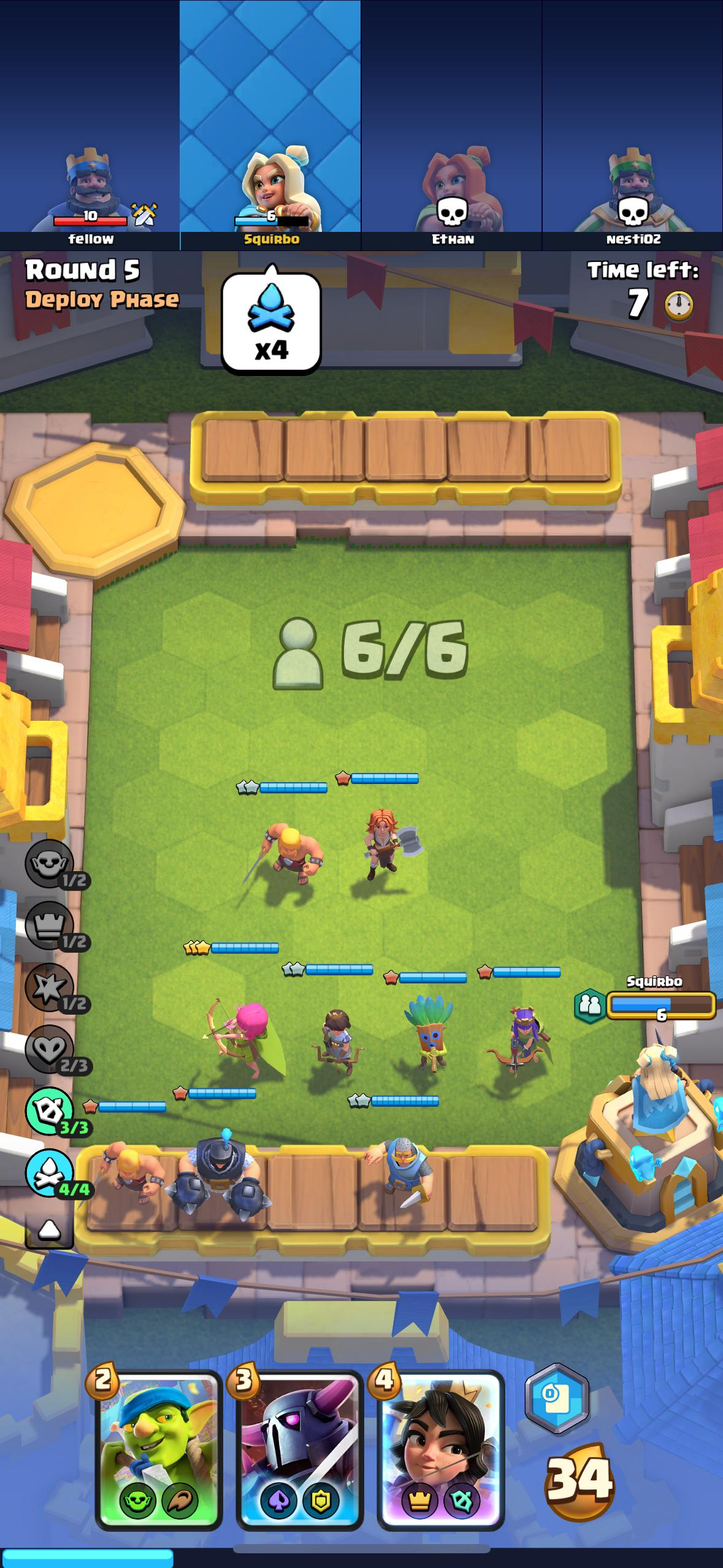archer: (185, 982, 295, 1081)
barbarian: (229, 812, 329, 891), (92, 1136, 168, 1200)
dart: (394, 988, 458, 1080)
hand-pekka: (238, 1372, 362, 1528)
hand-princess: (379, 1372, 502, 1530)
hand-spear: (96, 1372, 219, 1525)
knight: (350, 1131, 448, 1212)
mega: (166, 1126, 276, 1219)
princess: (305, 1007, 362, 1073)
queen: (483, 998, 555, 1073)
valkyrie: (352, 802, 422, 883)
